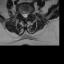CCS_normal: (24, 12, 26, 20)
LFS_severe_stenosis: (28, 10, 30, 16)
LLS_normal: (26, 11, 28, 18)
RFS_normal: (20, 10, 22, 17)
RLS_normal: (22, 11, 24, 18)
